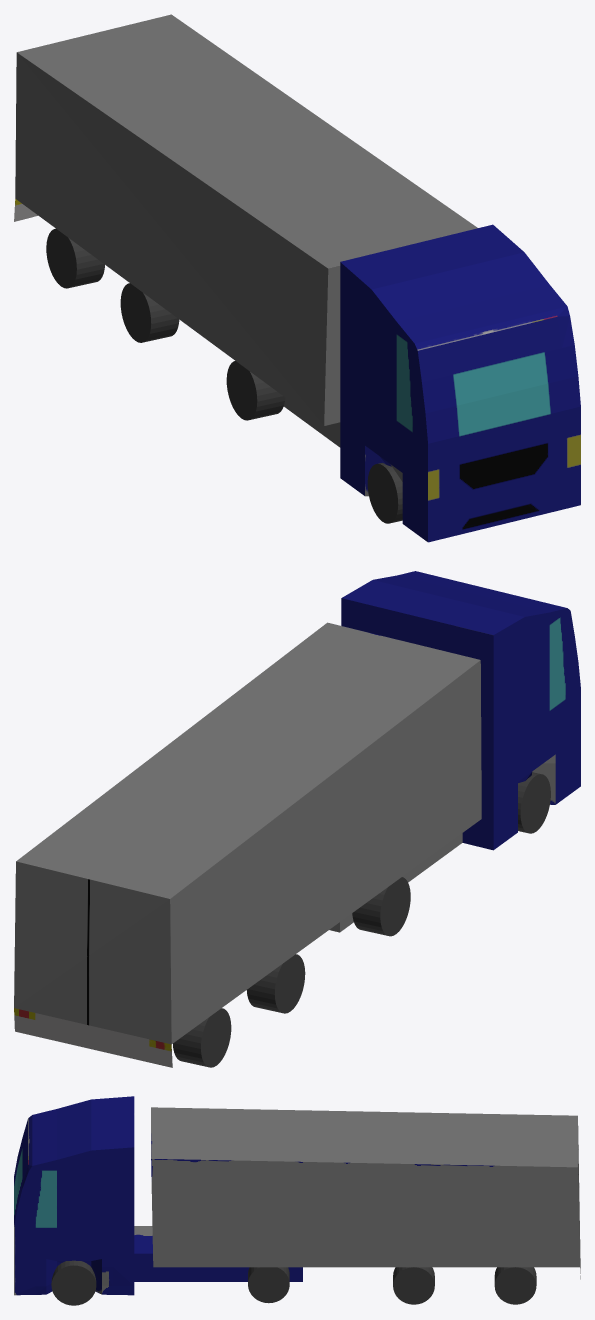
The model's file is trakku.obj.
The picture shows the model from 3 angles, top to bottom: view 1: azimuth 30°, elevation 25°; view 2: azimuth 150°, elevation 25°; view 3: azimuth 270°, elevation 25°; orthographic projection. The views are drawn at different scales.
Visible parts, largest first — view 1: 立方体.001_立方体.002; view 2: 立方体.001_立方体.002; view 3: 立方体.001_立方体.002.
Boxes of the visible parts, x1,y1,x2,y2 form: 立方体.001_立方体.002: (14,14,580,542); 立方体.001_立方体.002: (14,571,580,1067); 立方体.001_立方体.002: (14,1096,580,1305).
Bounding box in the file's own units: 1.17 × 1.65 × 5.33.
Materials: 8 (8 with a texture image).
